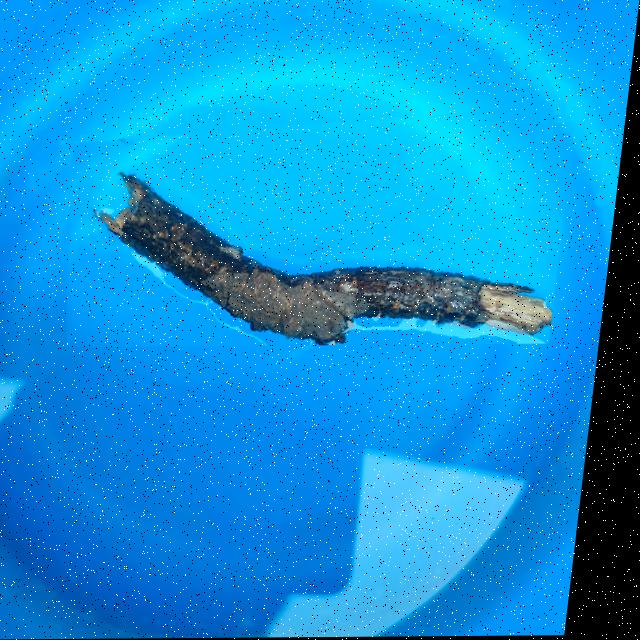wood: (58, 104, 580, 347)
